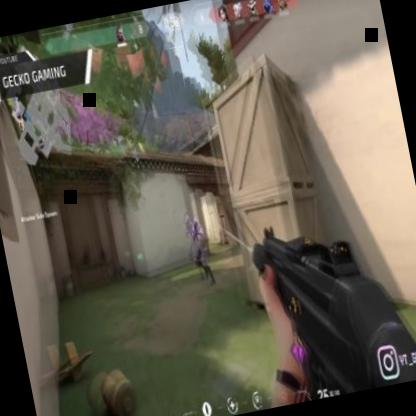enemy: (188, 215, 215, 285)
enemy_head: (192, 217, 200, 228)
